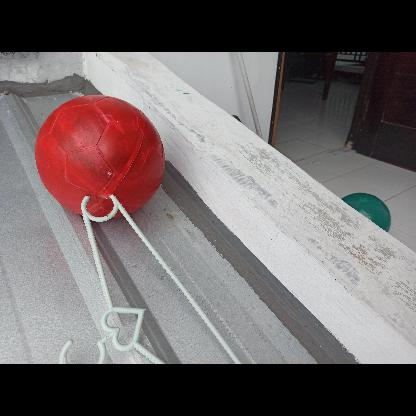red_ball: (35, 92, 162, 220)
